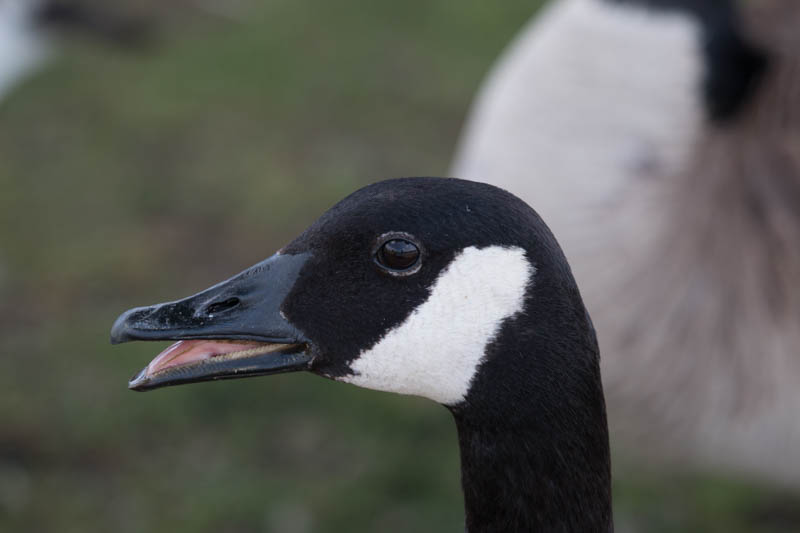goose-head: (109, 176, 601, 414)
